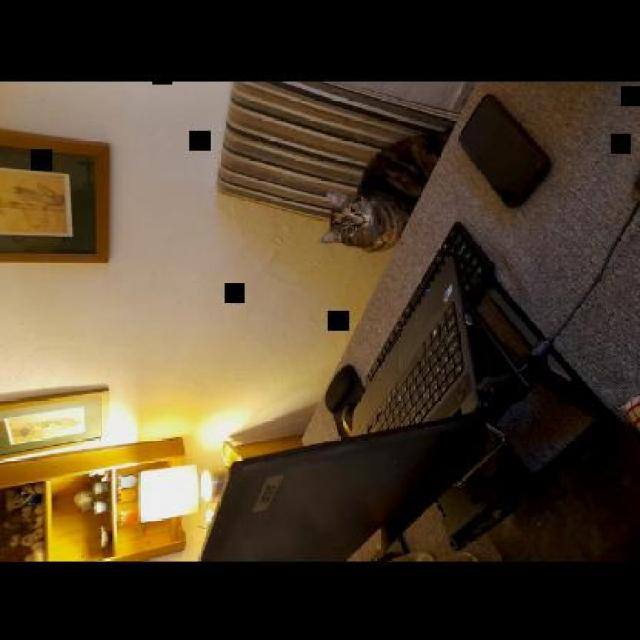unauthorized: (318, 125, 449, 252)
